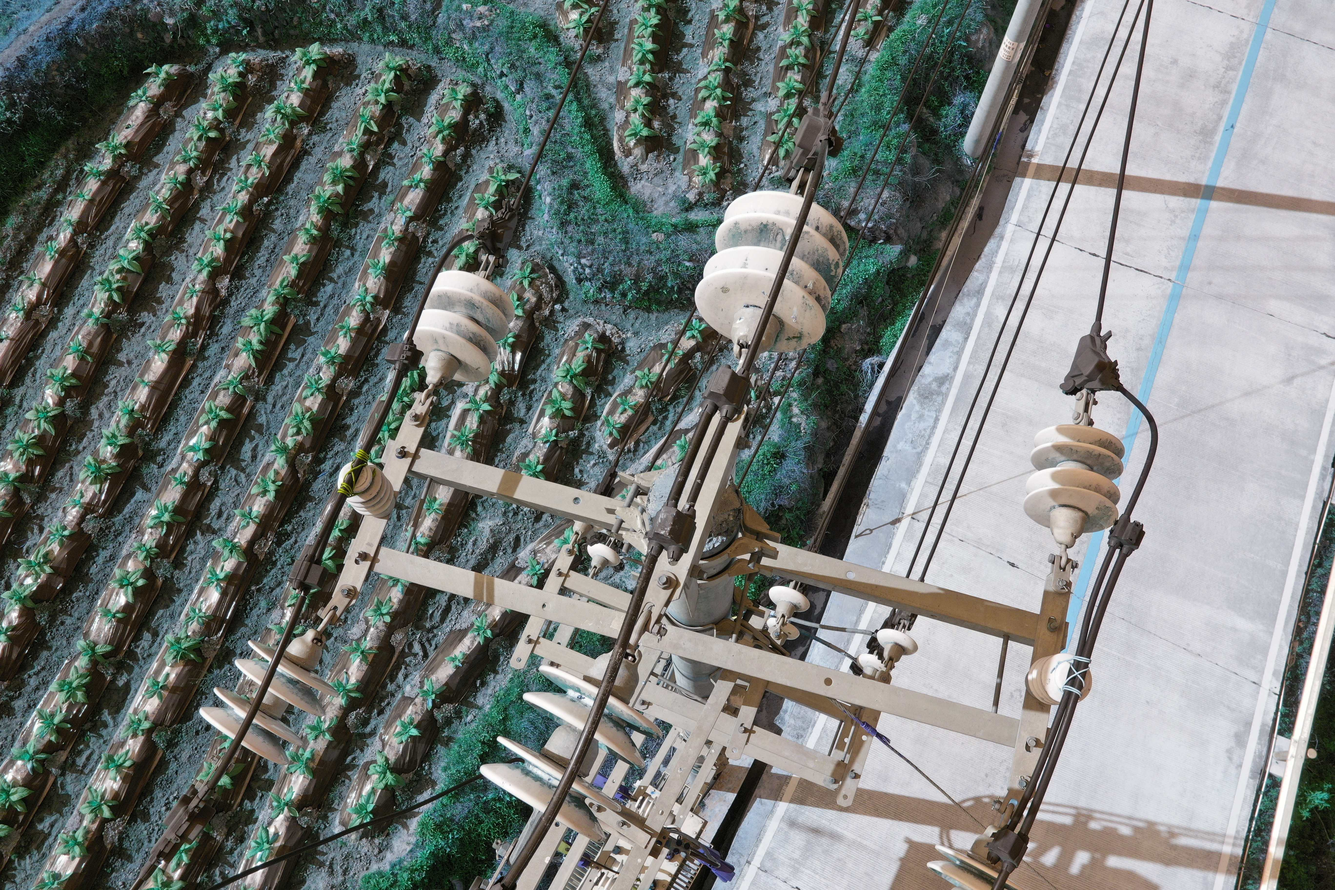severe_soiling_no_discharge_whole: (477, 644, 658, 847), (689, 188, 851, 359), (197, 621, 338, 767), (398, 264, 517, 393), (1022, 421, 1129, 553), (924, 821, 1025, 886), (336, 457, 399, 521)
